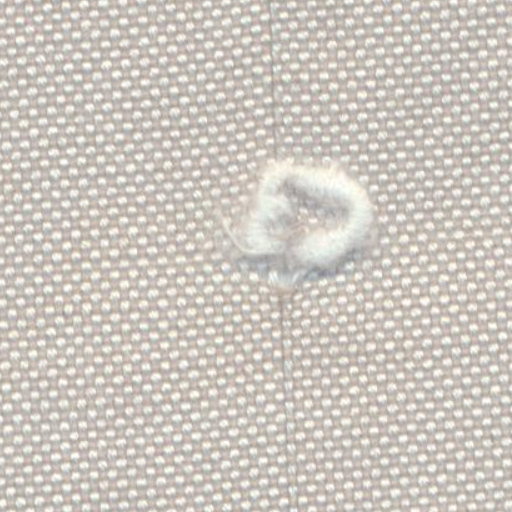DuanSha: (228, 144, 380, 302)
